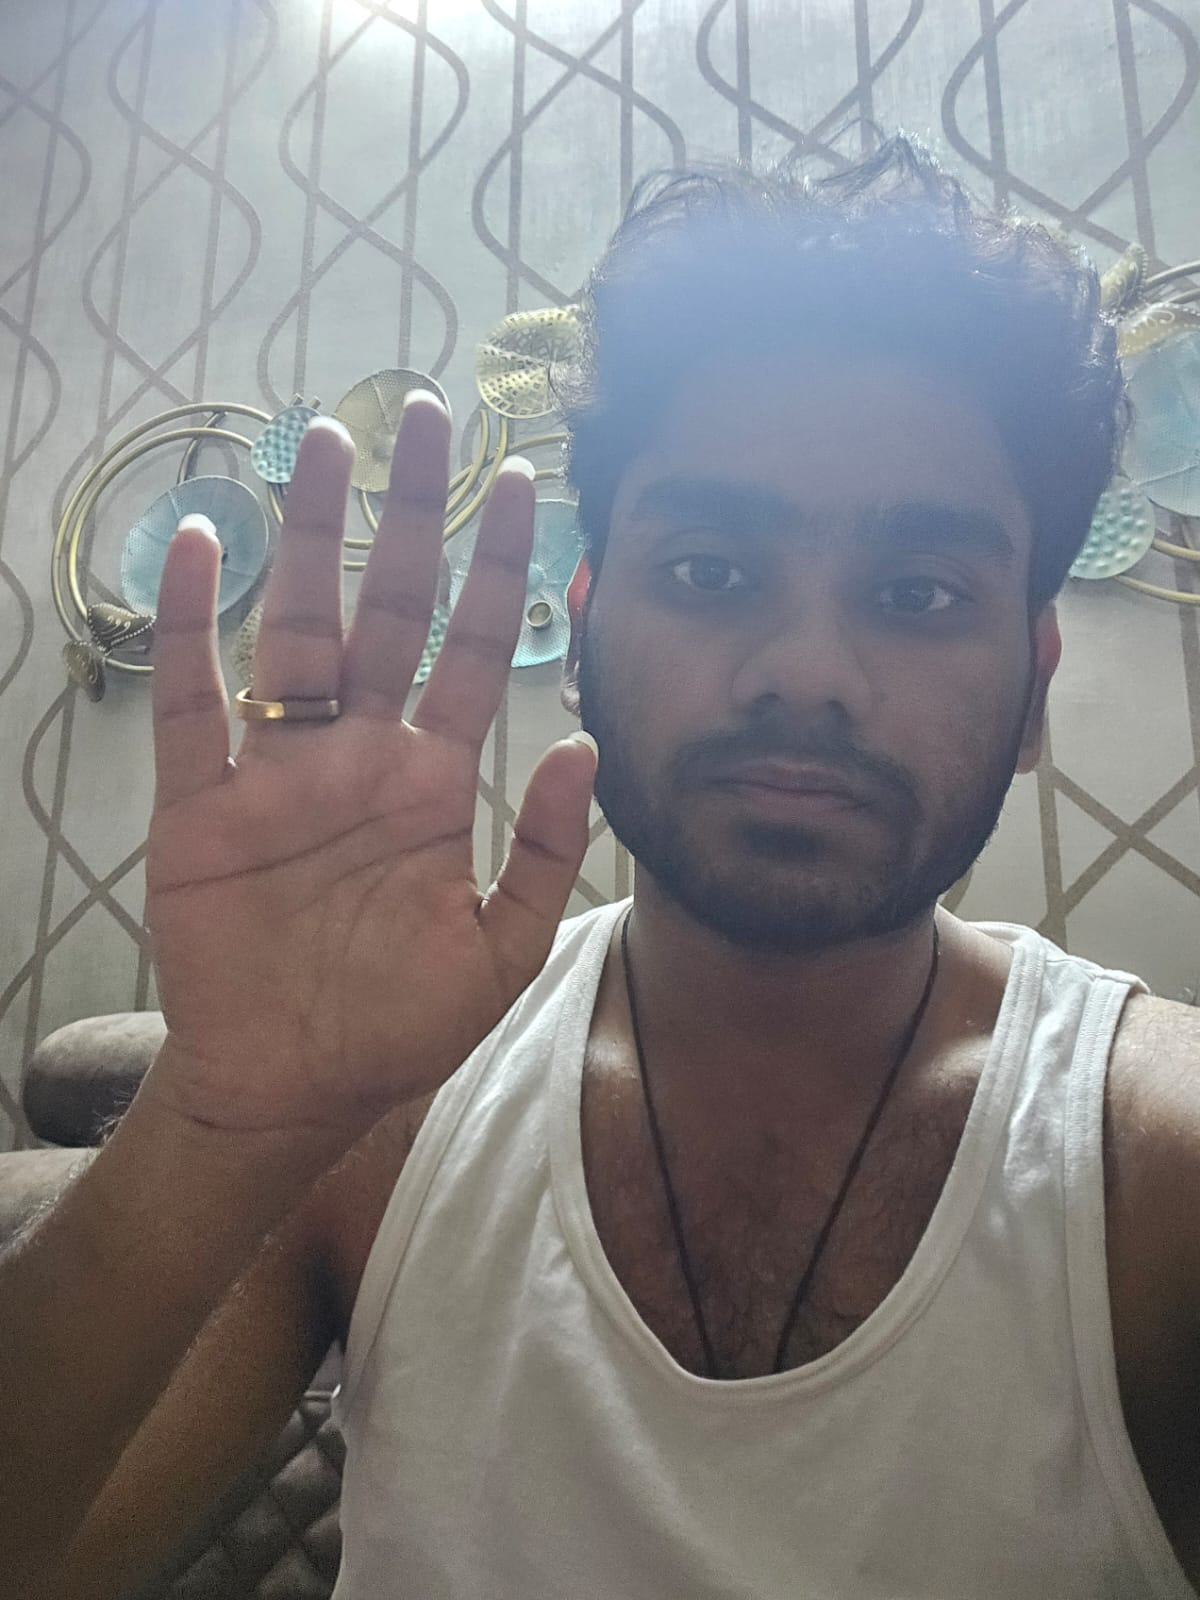hello: (147, 388, 597, 1133)
